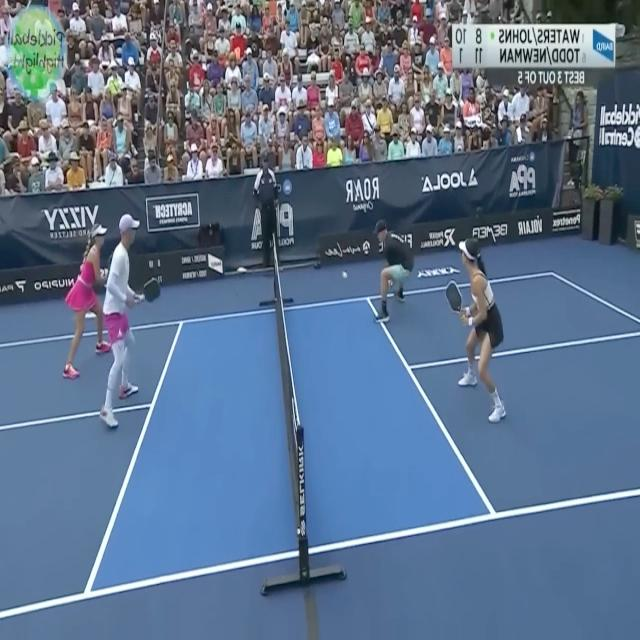Pickleball: (340, 268, 348, 281)
